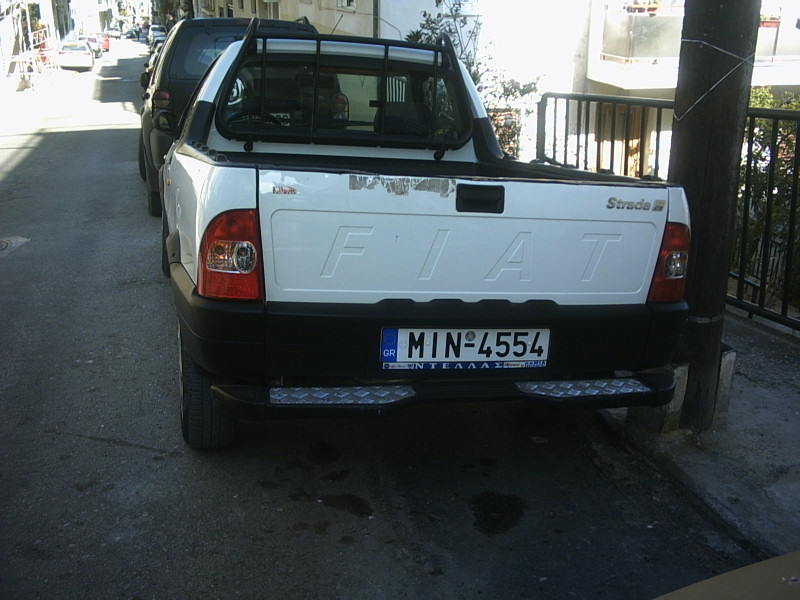licenseplate: (379, 325, 551, 363)
